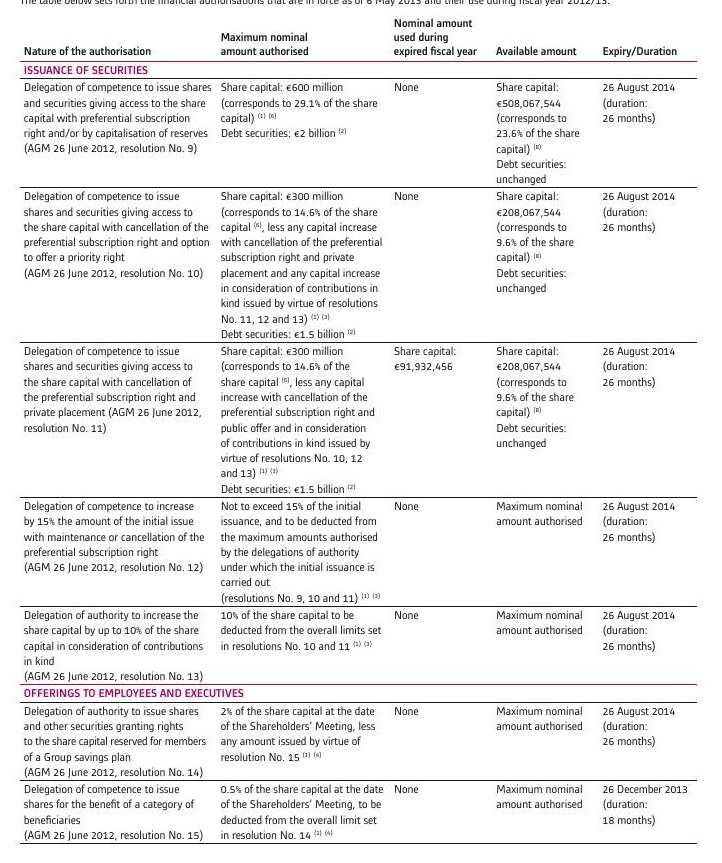table: (0, 0, 722, 863)
